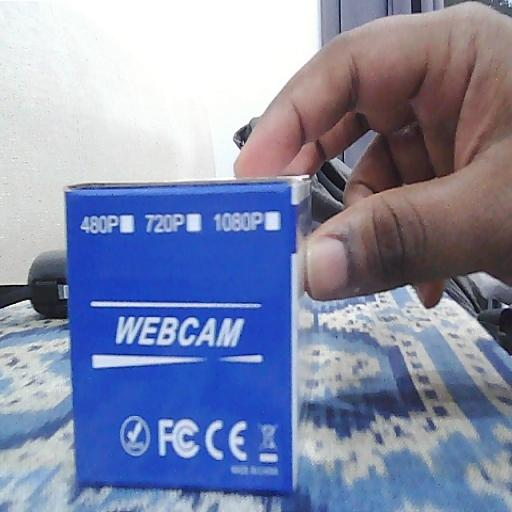webcam_box: (65, 176, 318, 497)
